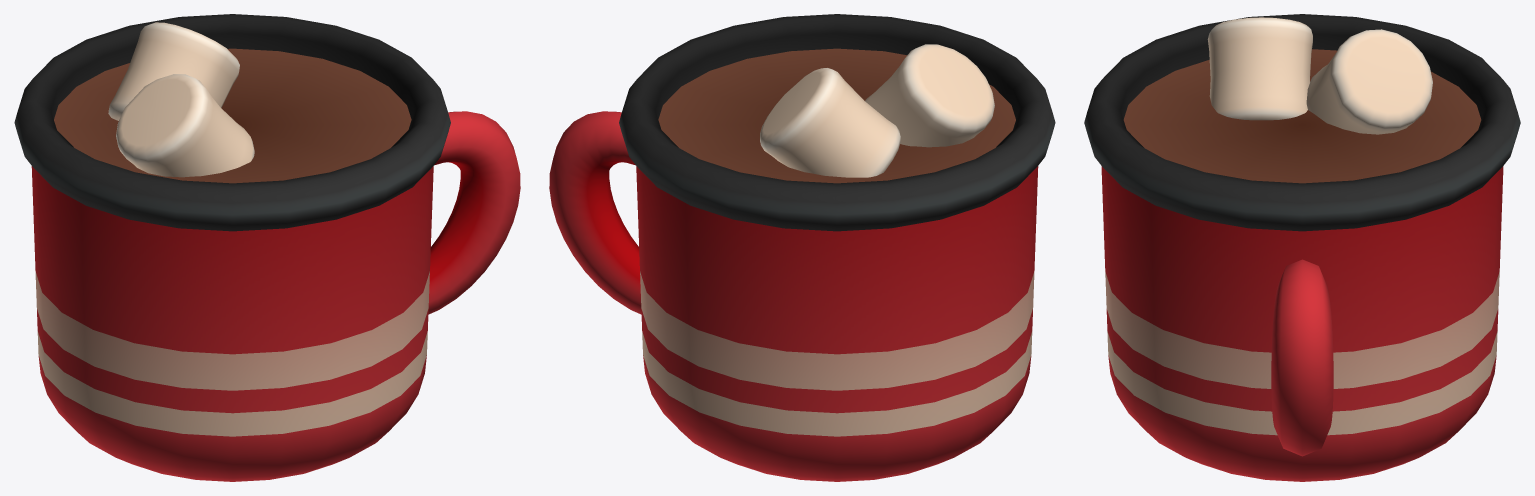
The model's file is hot_chocolate.fbx.
3 renders of one model, left to right at view 1: azimuth 30°, elevation 25°; view 2: azimuth 150°, elevation 25°; view 3: azimuth 270°, elevation 25°, orthographic.
Parts seen in each view (by area): view 1: hot_chocolate; view 2: hot_chocolate; view 3: hot_chocolate.
Boxes of the visible parts, box(x1,y1,x2,y2) form: hot_chocolate: box(14, 14, 520, 481); hot_chocolate: box(549, 14, 1055, 481); hot_chocolate: box(1084, 14, 1520, 481).
Size of the model in its own units: 1.37 by 1.07 by 1.09.
